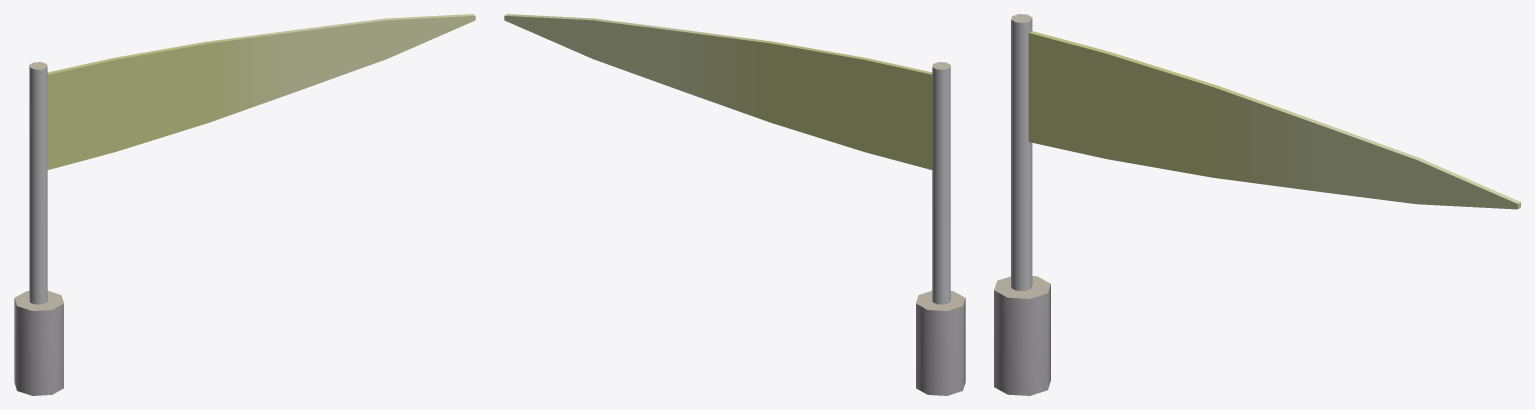
File: FunHutFlag.glb
The picture shows the model from 3 angles, left to right: view 1: azimuth 30°, elevation 25°; view 2: azimuth 150°, elevation 25°; view 3: azimuth 330°, elevation 25°; orthographic projection. The views are drawn at different scales.
Visible parts, largest first — view 1: FunHutFlag; view 2: FunHutFlag; view 3: FunHutFlag.
Boxes of the visible parts, bbox=[...] form: FunHutFlag: bbox=[14, 14, 475, 395]; FunHutFlag: bbox=[504, 14, 965, 395]; FunHutFlag: bbox=[994, 14, 1520, 395].
Size of the model in its own units: 0.8086 by 0.5403 by 0.0788.
